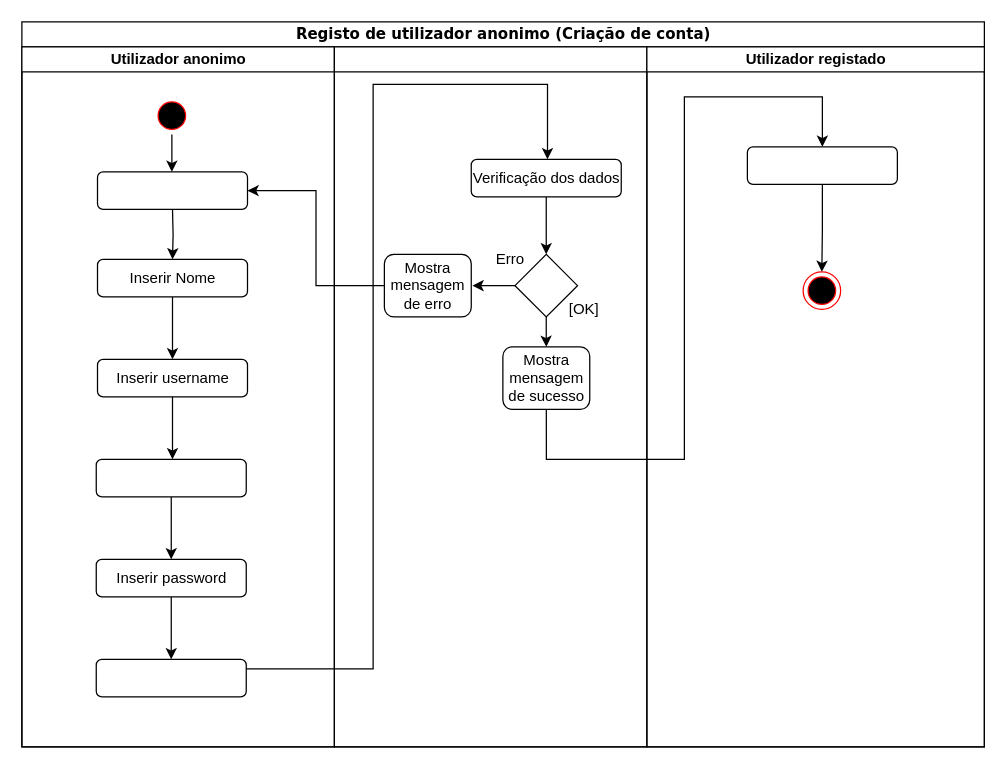
This 1006x769 diagram has some shape labels left out. Here are the shapes that lost their labels. From the top down, the box of each, then its label:
(746, 146, 897, 184): Area Pessoal
(96, 171, 248, 209): Registar (Criar conta)
(333, 46, 647, 747): Admin
(95, 458, 246, 497): Inserir email
(95, 658, 246, 697): Submeter dados
